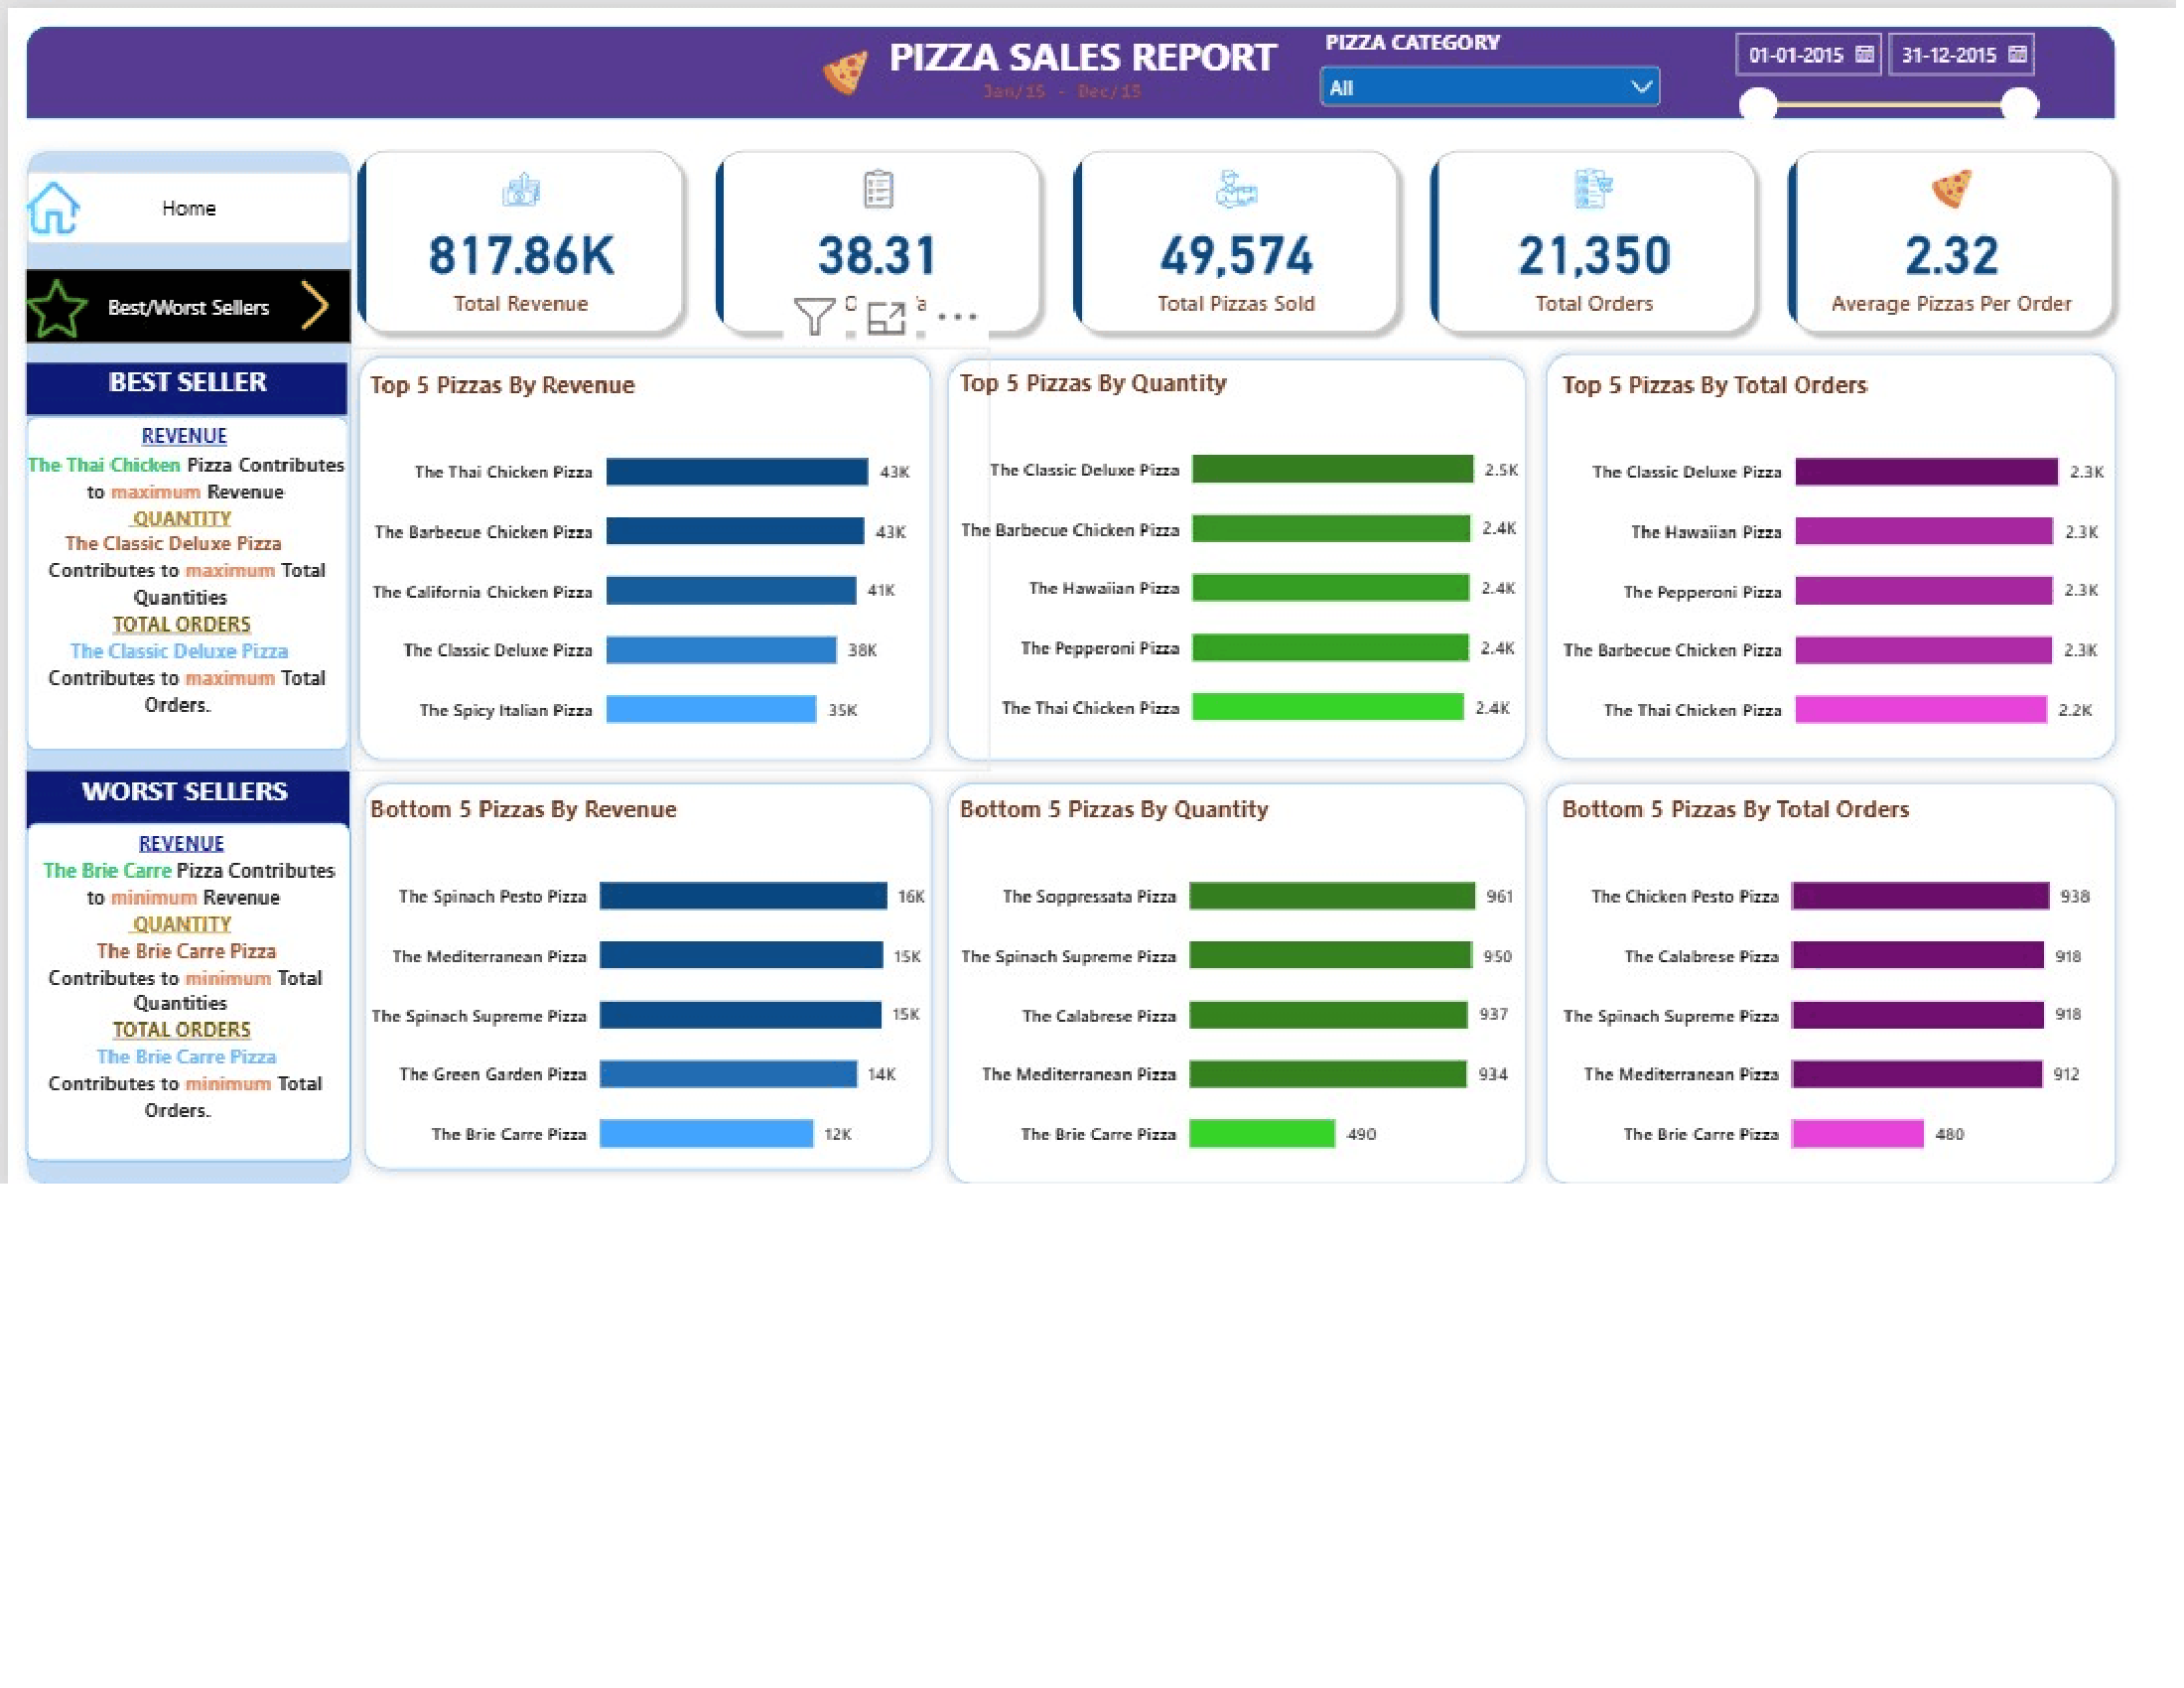

Layout of this report page (visuals, bound fields, positions):
{"tool":"powerbi","page":{"name":"Best/Worst Sellers","canvas":[1500,820],"ordinal":1},"visuals":[{"type":"cardVisual","fields":{"Data":["pizza_sales.Total Revenue","pizza_sales.Avg Order Value","pizza_sales.Total Pizzas Sold","pizza_sales.Total Orders","pizza_sales.Average Pizzas Per Order","pizza_sales.Total Pizzas Sold"]},"box":[233.9,91.5,1230,140],"z":0},{"type":"shape","box":[12.1,12.1,1442.4,63.6],"z":1000},{"type":"textbox","box":[12.5,562.5,222.5,202.5],"z":2000},{"type":"textbox","box":[211.9,13.6,1059.3,64.4],"z":3000},{"type":"textbox","box":[645.8,45.8,162.7,555.9],"z":4000},{"type":"image","box":[554.2,28.8,49.2,32.2],"z":5000},{"type":"shape","box":[233.3,231.7,411.7,295],"z":6000},{"type":"shape","box":[4.5,90.9,239.4,728.8],"z":7000},{"type":"textbox","box":[12.1,245.5,222.7,36.4],"z":8000},{"type":"textbox","box":[12.1,281.8,222.7,230.3],"z":9000},{"type":"textbox","box":[12.9,527.1,222.9,39],"z":10000},{"type":"textbox","box":[12.5,562.5,223.8,233.8],"z":11000},{"type":"slicer","fields":{"Values":["pizza_sales.pizza_category"]},"box":[902,12,244,66],"z":12000},{"type":"slicer","fields":{"Values":["pizza_sales.order_date"]},"box":[1186,12,220,64],"z":13000},{"type":"shape","box":[641.7,233.3,415,293.3],"z":14000},{"type":"shape","box":[1053.3,230,410,296.7],"z":15000},{"type":"shape","box":[236.7,526.7,408.3,283.3],"z":16000},{"type":"shape","box":[641.7,526.7,415,293.3],"z":17000},{"type":"shape","box":[1053.3,526.7,410,293.3],"z":18000},{"type":"barChart","title":"Top 5 Pizzas By Revenue","fields":{"Category":["pizza_sales.pizza_name"],"Y":["pizza_sales.Total Revenue"]},"box":[233.3,233.3,445,293.3],"z":19000},{"type":"barChart","title":"Bottom 5 Pizzas By Revenue","fields":{"Category":["pizza_sales.pizza_name"],"Y":["pizza_sales.Total Revenue"]},"box":[233.3,526.7,445,293.3],"z":20000},{"type":"barChart","title":"Top 5 Pizzas By Quantity","fields":{"Category":["pizza_sales.pizza_name"],"Y":["pizza_sales.Total Pizzas Sold"]},"box":[641.6,232.5,430,293.3],"z":21000},{"type":"barChart","title":"Bottom 5 Pizzas By Quantity","fields":{"Category":["pizza_sales.pizza_name"],"Y":["pizza_sales.Total Pizzas Sold"]},"box":[641.7,526.7,415,293.3],"z":22000},{"type":"barChart","title":"Top 5 Pizzas By Total Orders","fields":{"Category":["pizza_sales.pizza_name"],"Y":["pizza_sales.Total Orders"]},"box":[1057.1,233.8,427.3,293.5],"z":23000},{"type":"barChart","title":"Bottom 5 Pizzas By Total Orders","fields":{"Category":["pizza_sales.pizza_name"],"Y":["pizza_sales.Total Orders"]},"box":[1057.1,526,397.4,293.5],"z":24000},{"type":"pageNavigator","box":[12.1,112.1,224.2,50],"z":25000},{"type":"pageNavigator","box":[12.1,180.3,224.2,50],"z":26000},{"type":"image","box":[195.5,187.9,34.8,34.8],"z":27000},{"type":"image","box":[12.1,100,37.9,75.8],"z":28000},{"type":"image","box":[12.1,180.3,42.4,53],"z":29000}]}

Visuals, with their boxes on the page's 1500x820 design canvas (x1, y1, x2, y2). These are canvas units, not pixel positions in the 2184x1688 screenshot, which may show the page scaled, cropped or inside an application window:
cardVisual - pizza_sales.Total Revenue x pizza_sales.Avg Order Value: l=234, t=92, r=1464, b=232
shape: l=12, t=12, r=1454, b=76
textbox: l=12, t=562, r=235, b=765
textbox: l=212, t=14, r=1271, b=78
textbox: l=646, t=46, r=808, b=602
image: l=554, t=29, r=603, b=61
shape: l=233, t=232, r=645, b=527
shape: l=4, t=91, r=244, b=820
textbox: l=12, t=246, r=235, b=282
textbox: l=12, t=282, r=235, b=512
textbox: l=13, t=527, r=236, b=566
textbox: l=12, t=562, r=236, b=796
slicer - pizza_sales.pizza_category: l=902, t=12, r=1146, b=78
slicer - pizza_sales.order_date: l=1186, t=12, r=1406, b=76
shape: l=642, t=233, r=1057, b=527
shape: l=1053, t=230, r=1463, b=527
shape: l=237, t=527, r=645, b=810
shape: l=642, t=527, r=1057, b=820
shape: l=1053, t=527, r=1463, b=820
"Top 5 Pizzas By Revenue" barChart: l=233, t=233, r=678, b=527
"Bottom 5 Pizzas By Revenue" barChart: l=233, t=527, r=678, b=820
"Top 5 Pizzas By Quantity" barChart: l=642, t=232, r=1072, b=526
"Bottom 5 Pizzas By Quantity" barChart: l=642, t=527, r=1057, b=820
"Top 5 Pizzas By Total Orders" barChart: l=1057, t=234, r=1484, b=527
"Bottom 5 Pizzas By Total Orders" barChart: l=1057, t=526, r=1454, b=820
pageNavigator: l=12, t=112, r=236, b=162
pageNavigator: l=12, t=180, r=236, b=230
image: l=196, t=188, r=230, b=223
image: l=12, t=100, r=50, b=176
image: l=12, t=180, r=54, b=233
